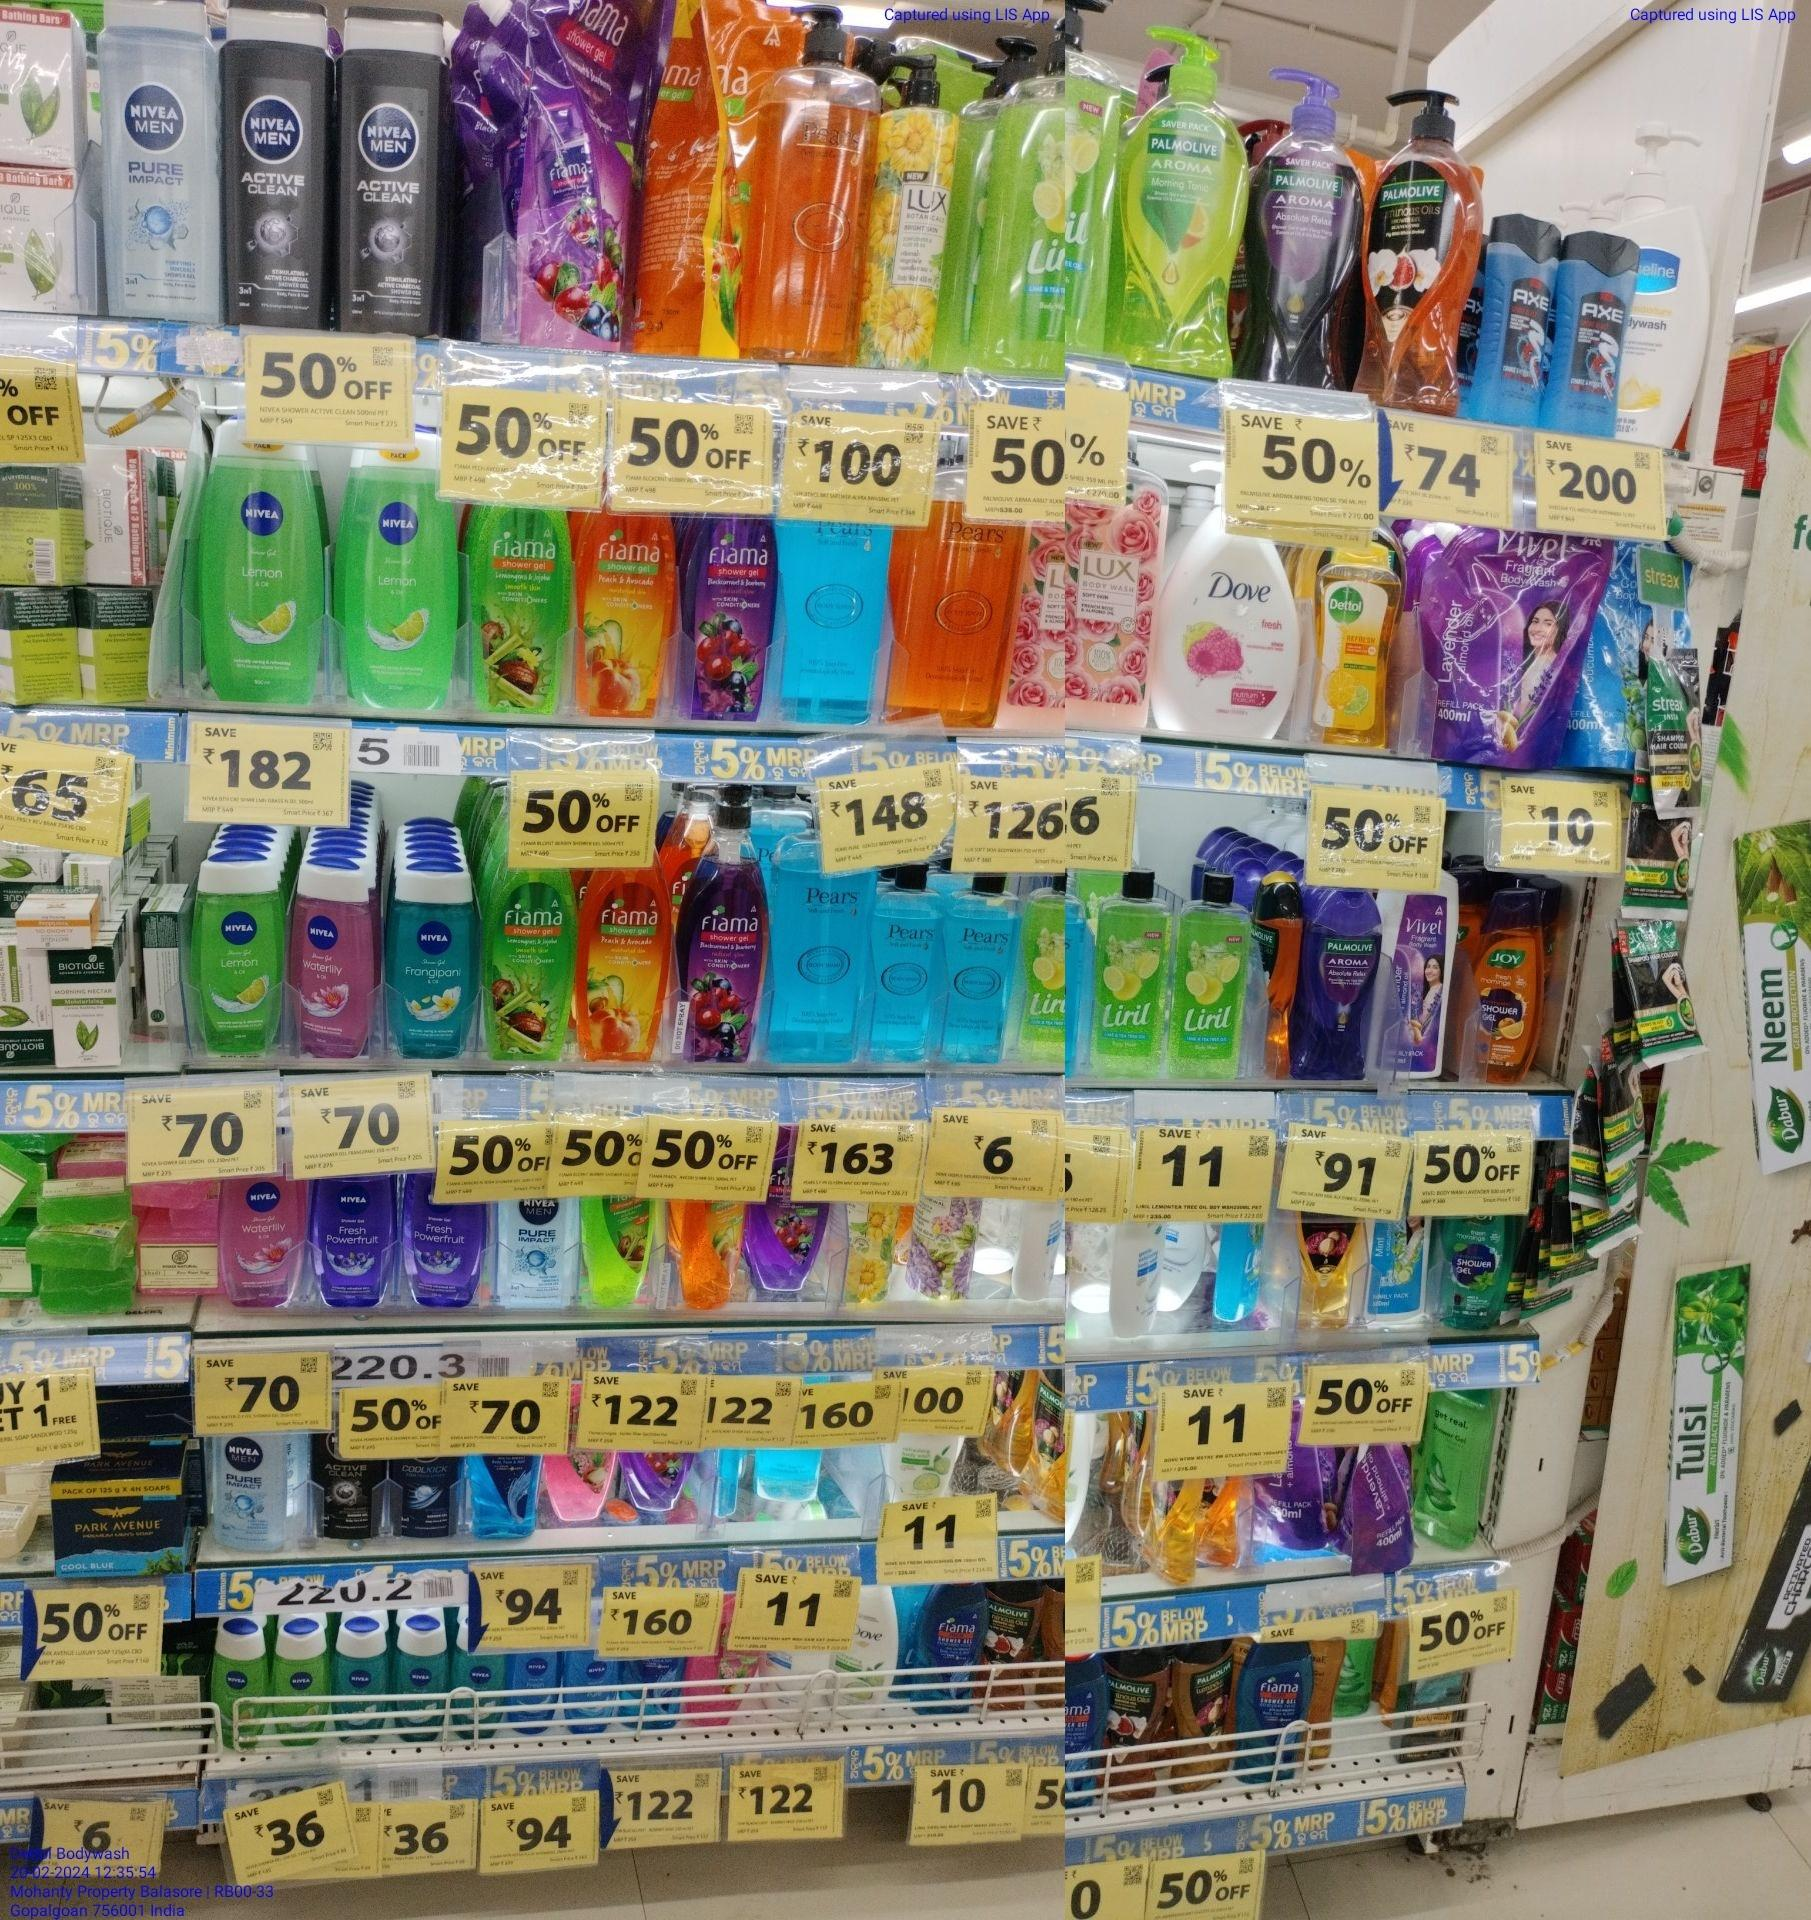Dettol_Bodywash_Cool: (272, 1624, 330, 1748)
Dettol_Bodywash_Refresh: (1314, 540, 1394, 744)
Dove_Deep_Moisture_Body_Wash_250ML: (1113, 1220, 1161, 1334)
Dove_Refreshing_Body_Wash_250ML: (843, 1586, 900, 1721)
Fiama_Shower_Gel_Lemongrass_and_Jojoba_250ML: (580, 1198, 652, 1309), (679, 1195, 737, 1311)
Joy_Shower_Gel_Mandarin_and_Lemongrass_250ML: (1476, 877, 1544, 1083)
Joy_Shower_Gel_Mint_and_Eucalyptus_250ML: (1445, 1212, 1513, 1328)
Liril_Lime_and_Tea_Tree_Oil_Body_Wash_250ML: (1093, 866, 1169, 1069), (1174, 871, 1241, 1072)
Nivea_Shower_Gel_Frangipani_and_Oil_250ML: (386, 877, 477, 1062), (393, 1615, 448, 1741), (335, 1617, 388, 1745), (453, 1644, 502, 1741)
Nivea_Shower_Gel_Fresh_Powerfruit_250ML: (308, 1173, 397, 1309), (405, 1197, 483, 1306)
Nivea_Shower_Gel_Lemon_and_Oil_250ML: (201, 426, 318, 705), (340, 444, 460, 703), (194, 866, 279, 1060), (211, 1624, 267, 1753)
Nivea_Shower_Gel_Waterlily_and_Oil_250ML: (288, 861, 374, 1066), (216, 1173, 301, 1297)
Palmolive_Aroma_Relax_250ML: (1300, 889, 1380, 1083)
Palmolive_Luminous_Oils_Invigorating_Macadamia_Oil_With_Peony_250ML: (1174, 1646, 1234, 1797)
Palmolive_Luminous_Oils_With_White_Orchid_Shower_Gel_250ML: (1108, 1643, 1169, 1797), (987, 1578, 1045, 1712)
Pears_Pure_Glycerin_and_Mint_Extracts_Body_Wash_250ML: (878, 866, 945, 1071), (950, 877, 1014, 1069)
